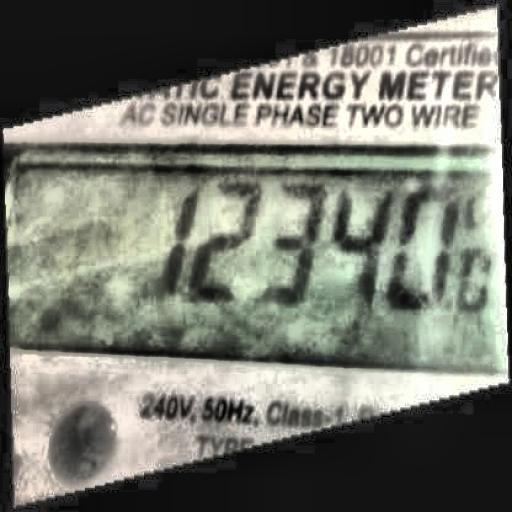DISPLAY_REGION: (2, 137, 510, 375)
SERIAL_REGION: (159, 180, 503, 321)
